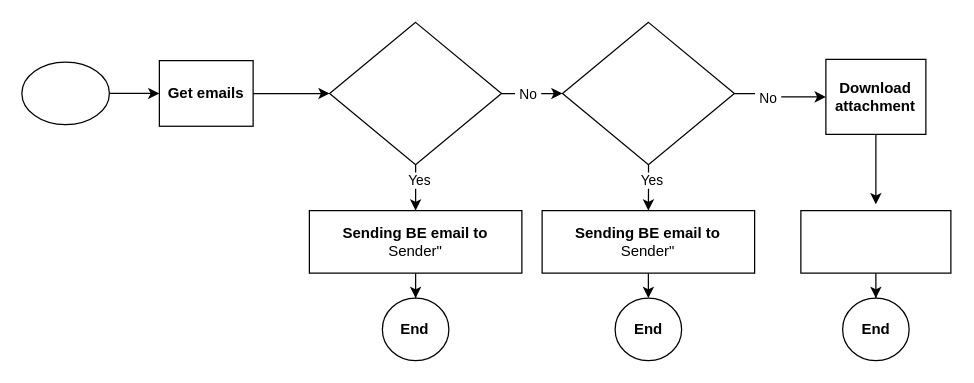
Image size: 974x383. Some labels were removed from this diagram. The centre of each missing label's shape, as x and y in pixels:
Attachment name is not "Course Criterea.txt": the point at 415,93
Empty Attachment File: the point at 647,93
Extract course name and price using regex: the point at 875,241
Start: the point at 65,93
